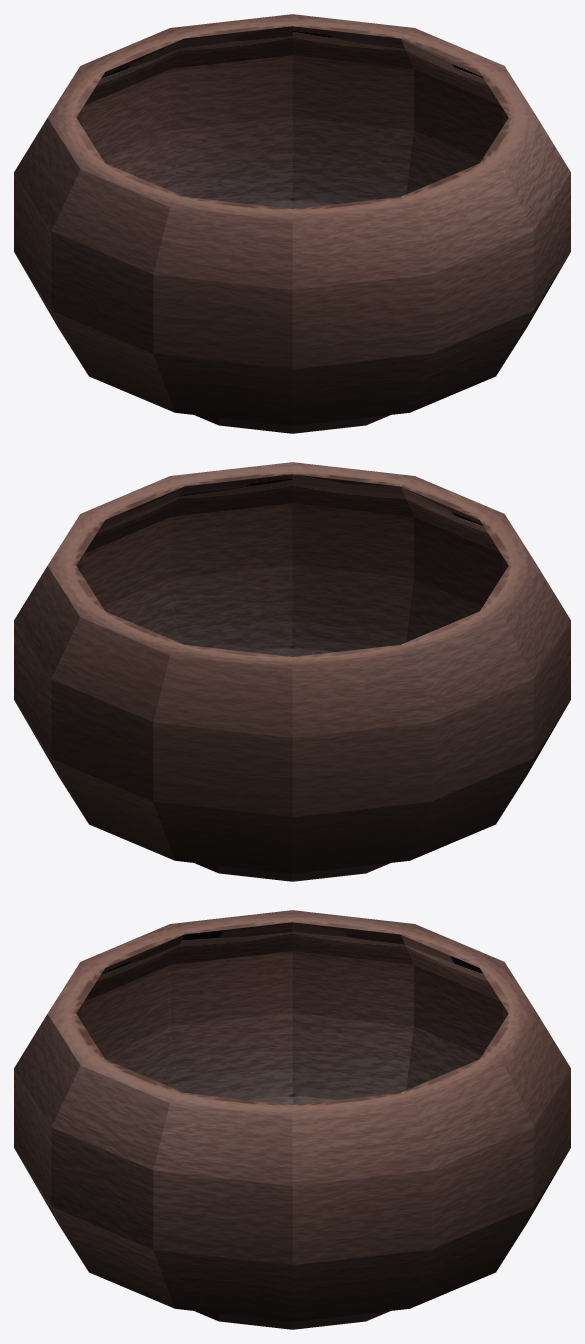
File: bowl02.fbx
The picture shows the model from 3 angles, top to bottom: view 1: azimuth 30°, elevation 25°; view 2: azimuth 150°, elevation 25°; view 3: azimuth 270°, elevation 25°; orthographic projection.
Parts seen in each view (by area): view 1: Cylinder.001; view 2: Cylinder.001; view 3: Cylinder.001.
Part boxes in pixels (box(x1,y1,x2,y2)): Cylinder.001: box(14, 14, 570, 433); Cylinder.001: box(14, 462, 570, 881); Cylinder.001: box(14, 910, 570, 1329).
Size of the model in its own units: 0.1886 by 0.1886 by 0.0949.
1 material, 1 textured.
